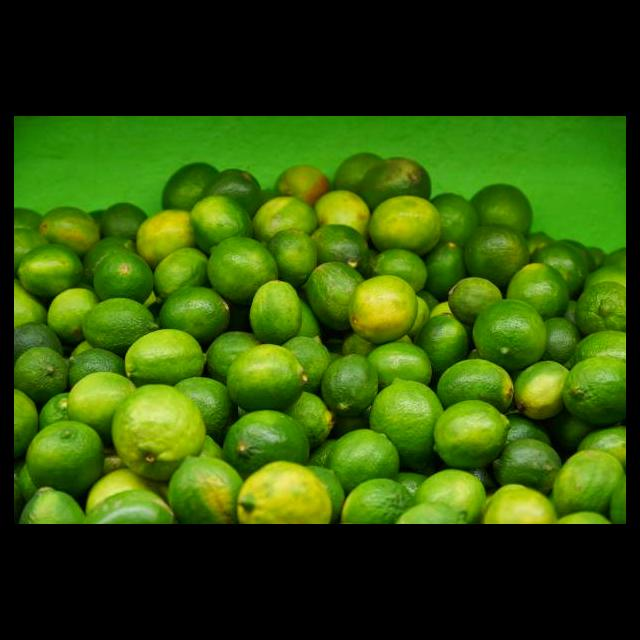lime: (107, 385, 211, 488), (236, 463, 338, 524), (430, 401, 511, 474), (472, 300, 547, 375), (206, 237, 278, 307), (368, 196, 441, 256), (38, 207, 102, 260)
